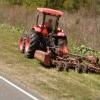Tractor: (14, 5, 100, 80)
